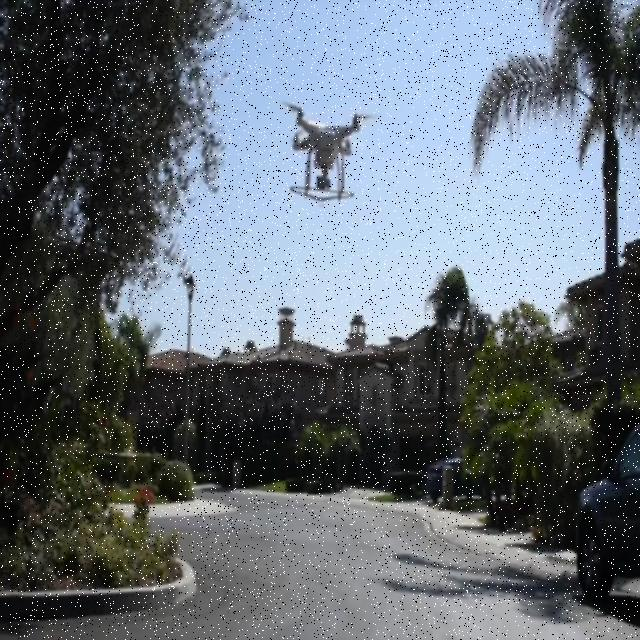UAV: (280, 101, 379, 203)
